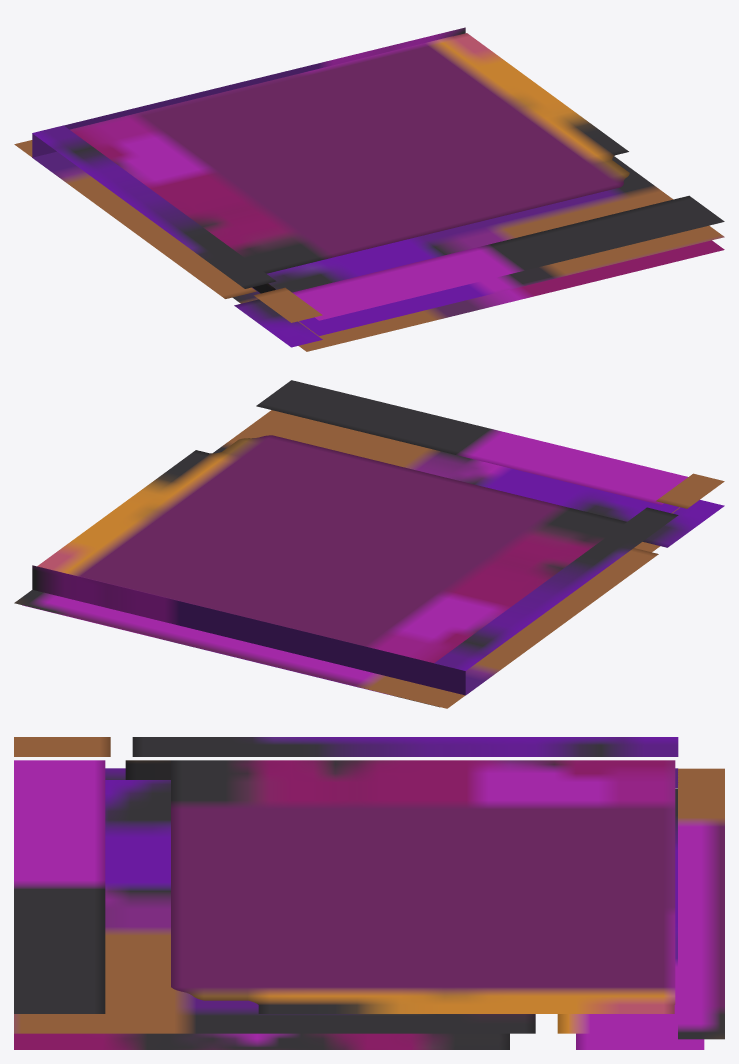
The model's file is section-0.obj.
The picture shows the model from 3 angles, top to bottom: view 1: azimuth 30°, elevation 25°; view 2: azimuth 150°, elevation 25°; view 3: azimuth 270°, elevation 25°; orthographic projection. The views are drawn at different scales.
Bounding box in the file's own units: 0.9435 × 0.068 × 1.05.
